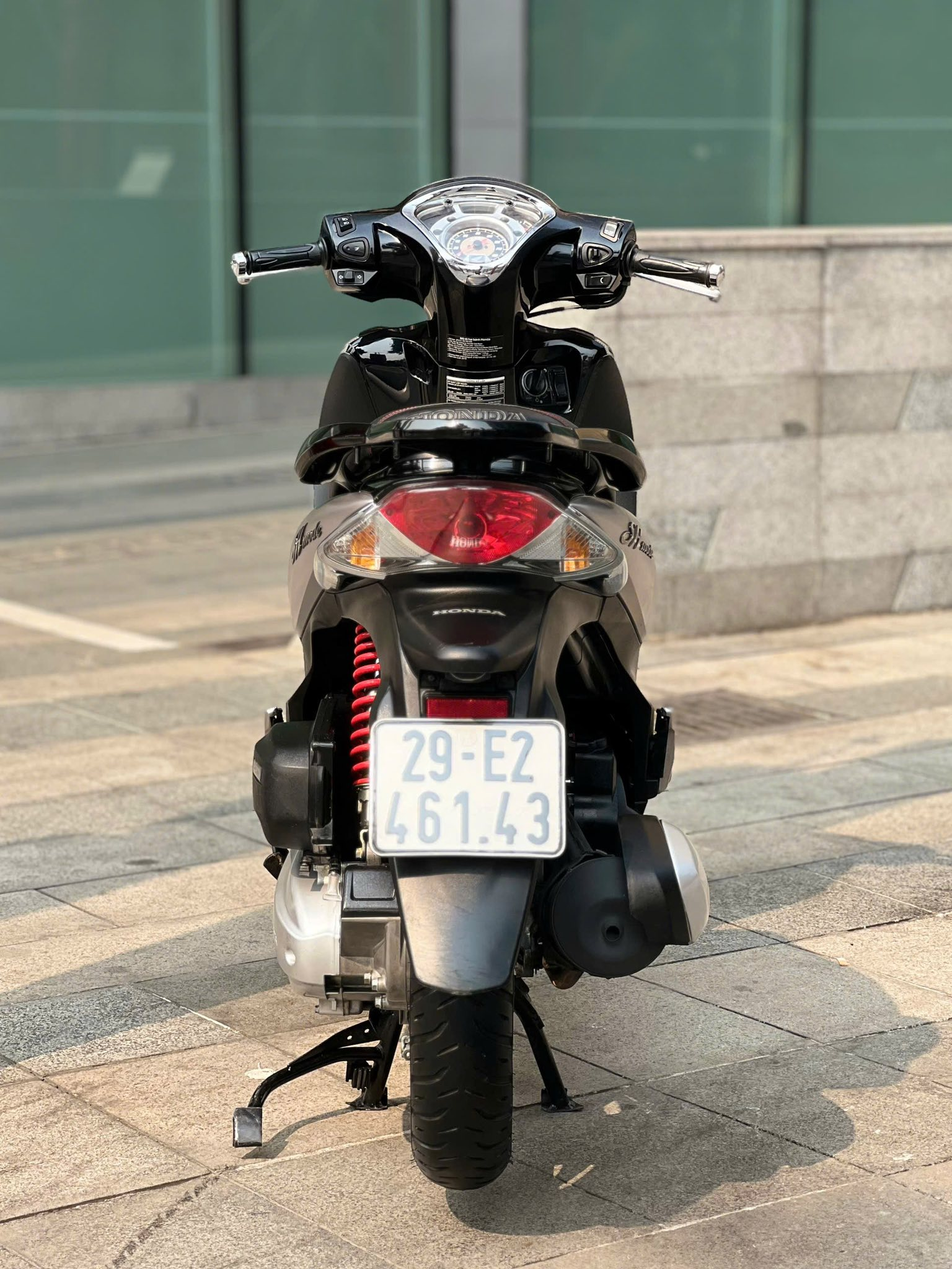bien_so: (363, 713, 574, 869)
